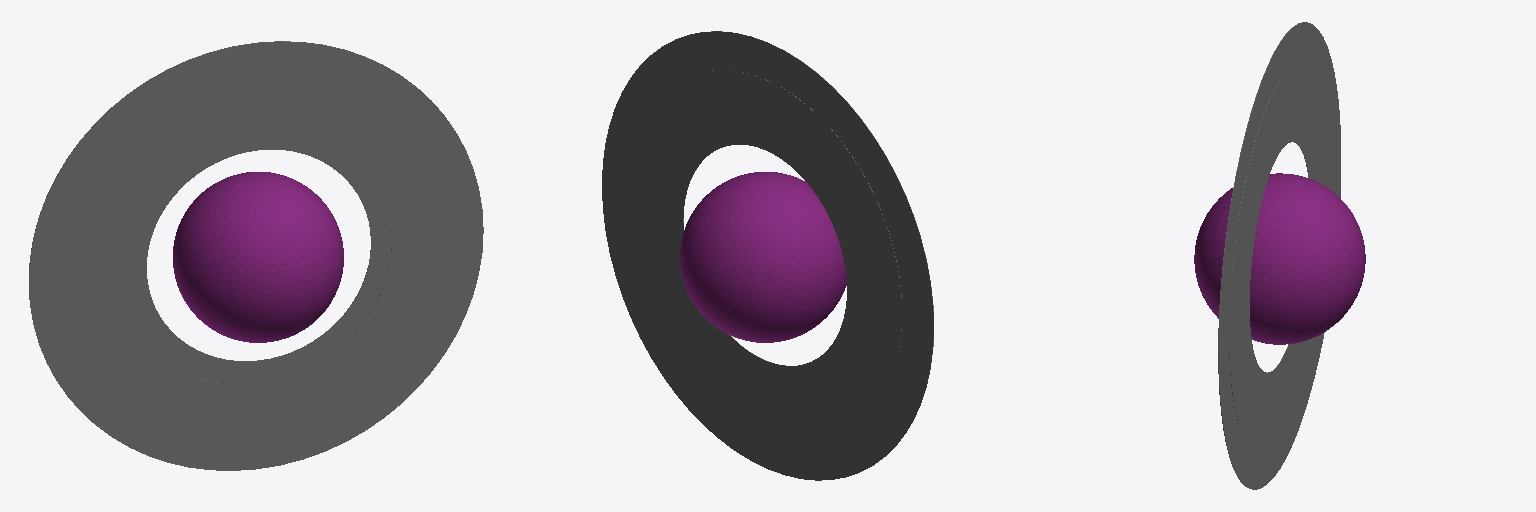
File: geonosis.obj
The picture shows the model from 3 angles: view 1: azimuth 30°, elevation 25°; view 2: azimuth 150°, elevation 25°; view 3: azimuth 270°, elevation 25°; orthographic projection.
Parts seen in each view (by area): view 1: rings001, geonosis, rings; view 2: rings, rings001, geonosis; view 3: geonosis, rings, rings001.
Boxes of the visible parts, <box> form: rings001: <box>29,41,483,470</box>; geonosis: <box>173,172,343,342</box>; rings: <box>120,128,391,383</box>; rings: <box>628,70,901,440</box>; rings001: <box>602,31,933,480</box>; geonosis: <box>680,172,846,342</box>; geonosis: <box>1194,173,1365,344</box>; rings: <box>1229,64,1330,449</box>; rings001: <box>1218,22,1340,489</box>.
Bounding box in the file's own units: 302 × 312 × 114.